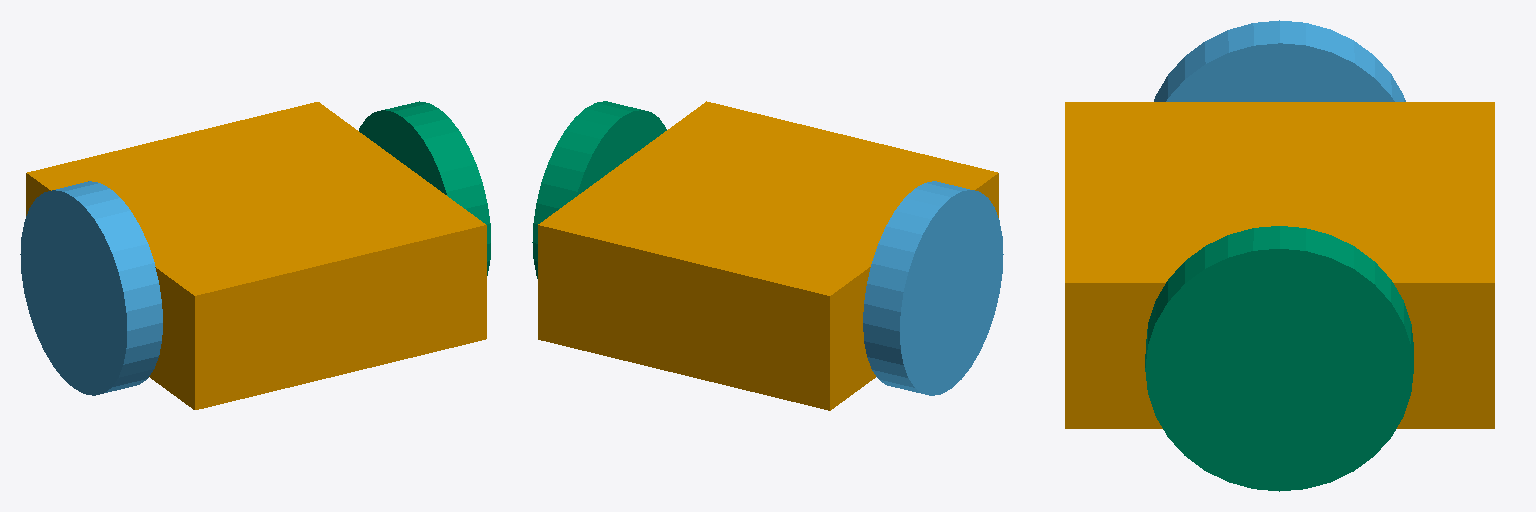
robot.urdf — [local-path]/Desktop/100daysofRobot/urdfs/diff_Drive.urdf:
<?xml version="1.0"?>
<robot name="[local-path]/Desktop/100daysofRobot/urdfs/diff_Drive.urdf" xmlns:xacro="http://ros.org/wiki/xacro">
  <link name="base_link">
    <visual>
      <origin xyz="0 0 0.023" rpy="0 0 0"/>
      <geometry>
        <box size="0.08 0.08 0.03"/>
      </geometry>
    </visual>
    <collision>
      <origin xyz="0 0 0.023" rpy="0 0 0"/>
      <geometry>
        <box size="0.08 0.08 0.03"/>
      </geometry>
    </collision>
  </link>
  <joint name="motor2" type="continuous">
    <parent link="base_link"/>
    <child link="solid(1)"/>
    <axis xyz="-0.001817 -0.009212 0.999956"/>
    <limit effort="10" velocity="10"/>
    <origin xyz="-0.045 0 0.025" rpy="3.138037 1.568979 -3.135935"/>
  </joint>
  <link name="solid(1)">
    <visual>
      <origin xyz="-0.00002 -0.000022 -0.000079" rpy="0 0 0"/>
      <geometry>
        <cylinder radius="0.025" length="0.01"/>
      </geometry>
    </visual>
    <collision>
      <origin xyz="-0.00002 -0.000022 -0.000079" rpy="0 0 0"/>
      <geometry>
        <cylinder radius="0.025" length="0.01"/>
      </geometry>
    </collision>
  </link>
  <joint name="motor1" type="continuous">
    <parent link="base_link"/>
    <child link="solid"/>
    <axis xyz="0.004098 0.004926 -0.999979"/>
    <limit effort="10" velocity="10"/>
    <origin xyz="0.04498 -0.000022 0.024921" rpy="-0.000066 -1.566699 -0.00486"/>
  </joint>
  <link name="solid">
    <visual>
      <origin xyz="-0.000015 -0.000031 -0.000082" rpy="0 0 0"/>
      <geometry>
        <cylinder radius="0.025" length="0.01"/>
      </geometry>
    </visual>
    <collision>
      <origin xyz="-0.000015 -0.000031 -0.000082" rpy="0 0 0"/>
      <geometry>
        <cylinder radius="0.025" length="0.01"/>
      </geometry>
    </collision>
  </link>
  <link name="compass">
  </link>
  <joint name="base_link_compass_joint" type="fixed">
    <parent link="base_link"/>
    <child link="compass"/>
    <origin xyz="-0.000015 -0.000031 0.024918" rpy="0 0 0"/>
  </joint>
</robot>

--- What the picture shows (computed from the rendered views, not written in the file) ---
Views: 3 orthographic renders of the robot side by side, from view 1: azimuth 30°, elevation 25°; view 2: azimuth 150°, elevation 25°; view 3: azimuth 270°, elevation 25°.
Model [local-path]/Desktop/100daysofRobot/urdfs/diff_Drive.urdf with 4 links and 3 joints (2 continuous, 1 fixed), rooted at base_link, posed all joints at 0.
Links seen in each view (by area): view 1: base_link, solid(1), solid; view 2: base_link, solid(1), solid; view 3: base_link, solid, solid(1).
Boxes of the visible links, <box> form: base_link: <box>26,102,486,409</box>; solid(1): <box>20,181,162,395</box>; solid: <box>359,101,490,275</box>; base_link: <box>538,101,998,410</box>; solid(1): <box>863,181,1003,395</box>; solid: <box>532,101,666,278</box>; base_link: <box>1065,102,1494,428</box>; solid: <box>1145,226,1413,491</box>; solid(1): <box>1154,20,1405,101</box>.
Size in the robot's own frame: 0.1005 by 0.08 by 0.0501 metres.
Geometry: primitives only (box / cylinder / sphere), no mesh files.
